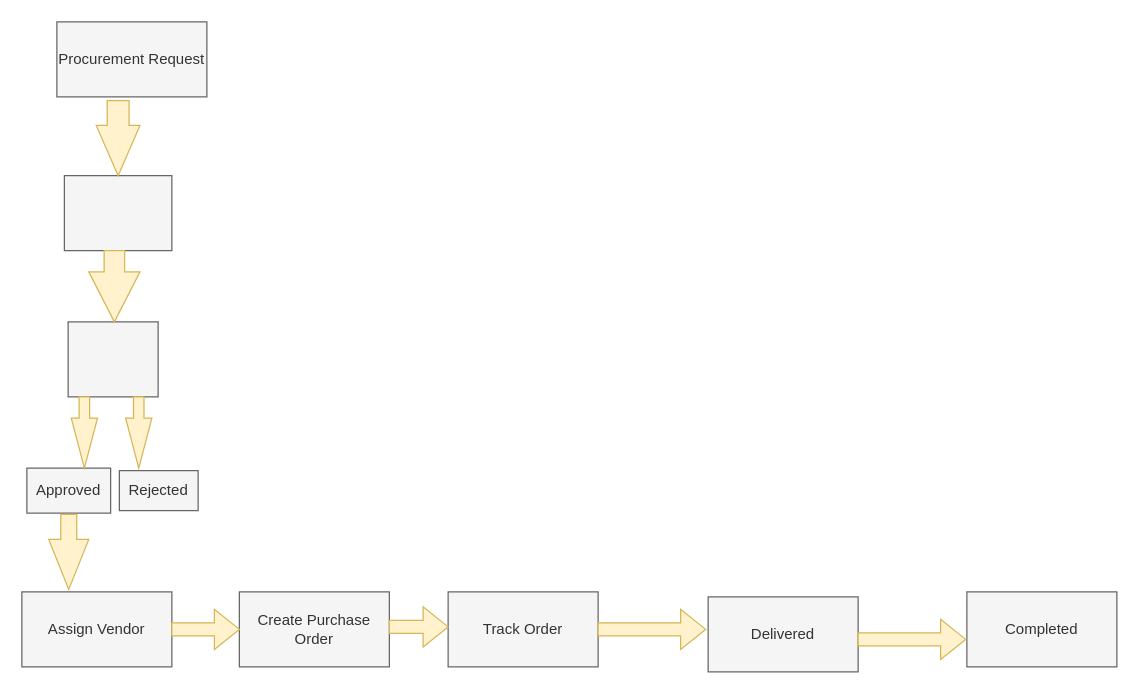
The diagram is 1139 pixels wide and 694 high, and some of its shapes have lost their labels. Each missing label, with the centre of its shape:
"Approval" goes at (112,359).
"Submit Request" goes at (117,212).
